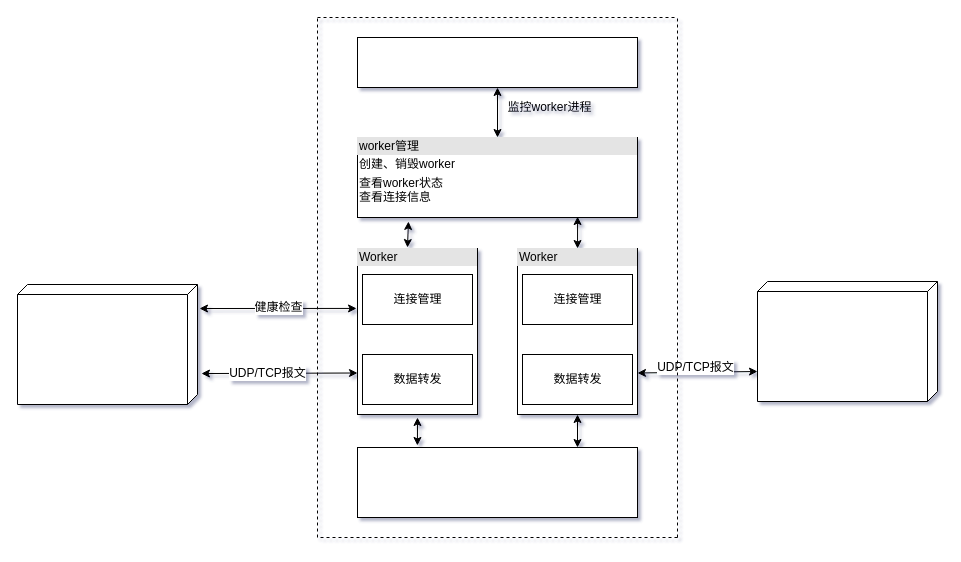
The diagram is 961 pixels wide and 562 high, and some of its shapes have lost their labels. The centre of each missing label's shape, as x and y in pixels:
ESTServer: the point at 847,341
Master进程: the point at 497,62
RUTP转发管理 通过哈希表管理转发条目 由worker进程添加删除转发条目 提供API供worker查询转发条目信息: the point at 497,482
负载均衡器: the point at 107,344
